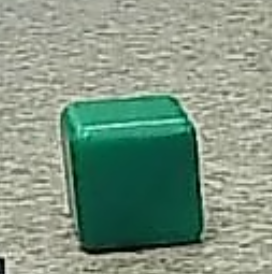green_cube: (51, 97, 214, 259)
